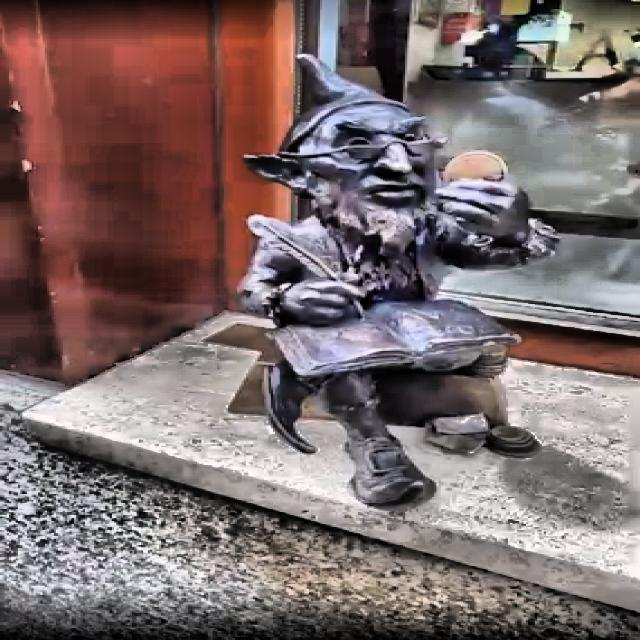Gaugan: (228, 54, 539, 509)
